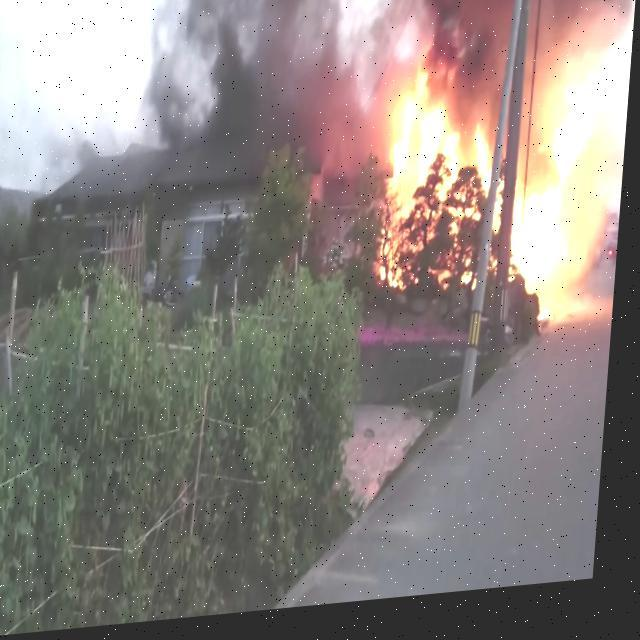Fire: (511, 68, 619, 339), (380, 76, 500, 252), (380, 235, 413, 301), (462, 260, 484, 302), (495, 188, 511, 244), (429, 274, 456, 301), (492, 256, 504, 288)
